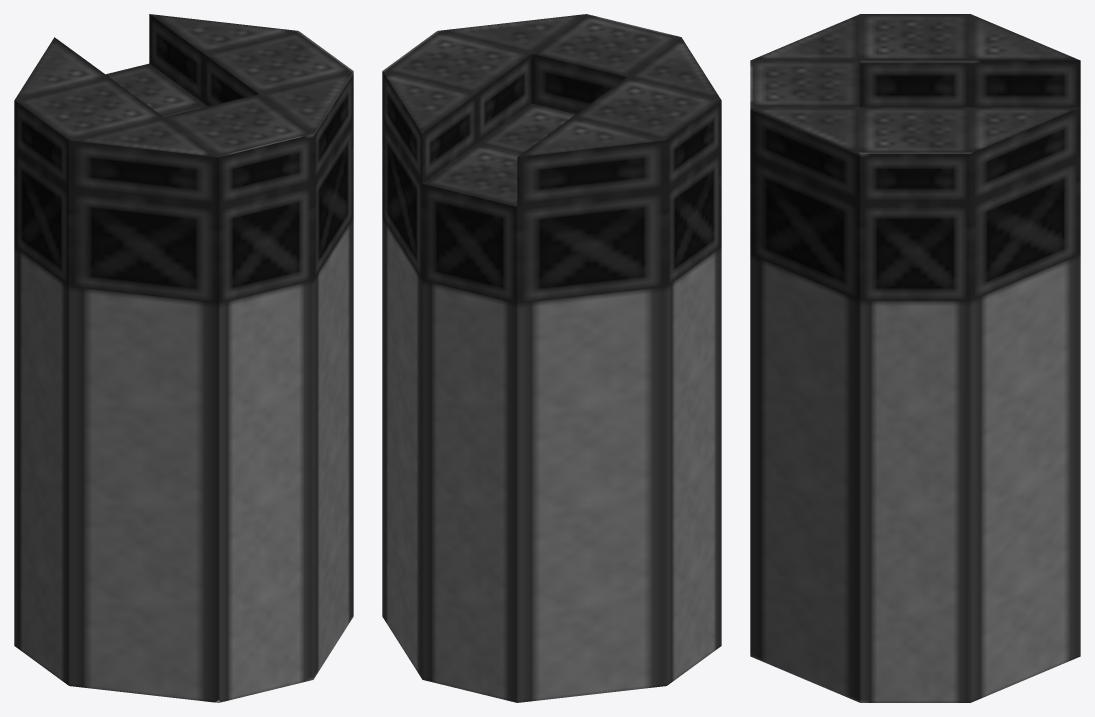
The model's file is soyuz_launcher_support_base.obj.
The picture shows the model from 3 angles, left to right: view 1: azimuth 30°, elevation 25°; view 2: azimuth 150°, elevation 25°; view 3: azimuth 270°, elevation 25°; orthographic projection.
Parts seen in each view (by area): view 1: Plane; view 2: Plane; view 3: Plane.
Boxes of the visible parts, x1=… form: Plane: x1=14, y1=14, x2=353, y2=702; Plane: x1=382, y1=14, x2=721, y2=702; Plane: x1=750, y1=14, x2=1080, y2=702.
Size of the model in its own units: 3 by 5.5 by 3.
